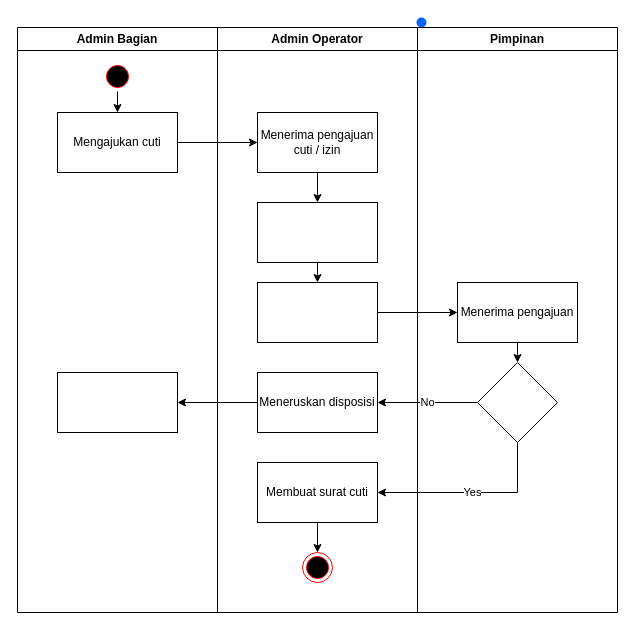
Image size: 635x630. Some labels were removed from this diagram. The shapes that lost their labels are listed below. From the top down, each one's centre as x and y in pixels, then its label:
At point (317, 232): "Memverifikasi kelayakan sesuai absensi masuk kerja".
At point (317, 312): "Melaporkan ke pimpinan".
At point (117, 402): "Pemberitahuan penolakan izin".
At point (517, 402): "Disetujui?".
